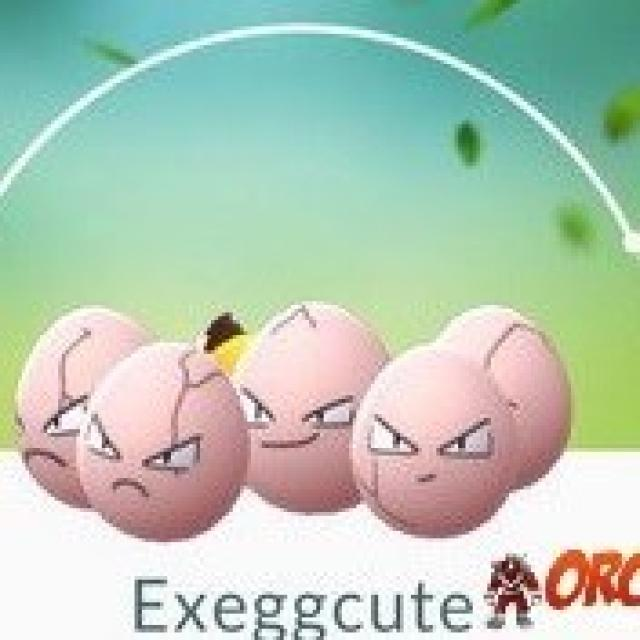Exeggcute: (18, 300, 582, 538)
